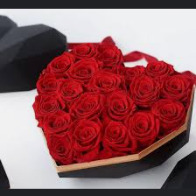RedRose: (153, 98, 184, 128), (93, 38, 124, 63), (41, 110, 73, 133), (129, 73, 154, 102), (48, 133, 71, 164), (129, 112, 154, 140), (161, 73, 186, 100), (36, 89, 61, 115), (74, 91, 103, 113), (72, 117, 96, 143), (59, 80, 86, 103), (106, 117, 127, 146), (106, 92, 131, 116), (49, 54, 78, 73), (98, 66, 124, 87), (38, 69, 62, 91), (71, 61, 99, 79), (67, 38, 91, 59), (147, 56, 169, 74)
